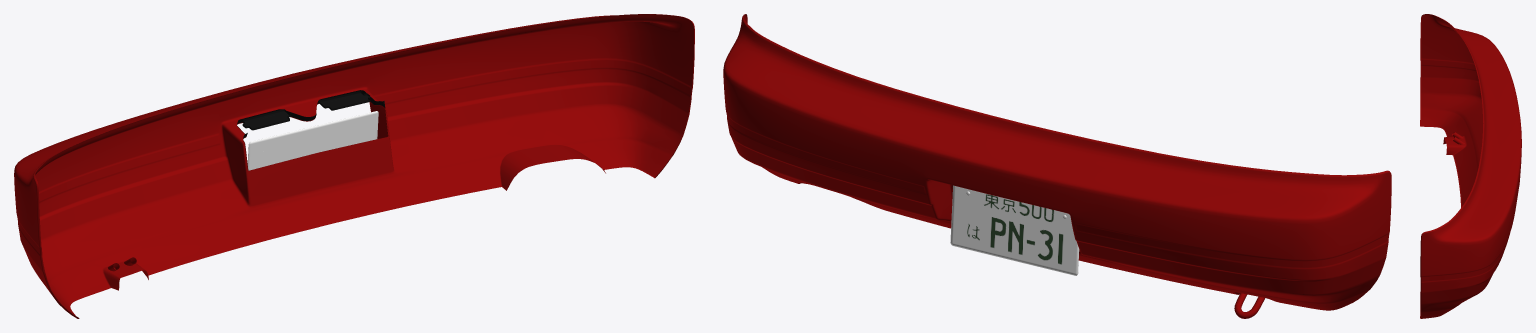
File: rearbumper_oem.glb
3 renders of one model, left to right at view 1: azimuth 30°, elevation 25°; view 2: azimuth 150°, elevation 25°; view 3: azimuth 270°, elevation 25°, orthographic. The views are drawn at different scales.
Visible parts, largest first — view 1: Bumper, Plate, Plate Support; view 2: Bumper, Plate; view 3: Bumper, Hooks.
Part boxes in pixels (<box>): Bumper: <box>14,14,694,318</box>; Plate: <box>247,111,378,170</box>; Plate Support: <box>237,90,385,138</box>; Bumper: <box>723,14,1391,310</box>; Plate: <box>950,185,1079,275</box>; Bumper: <box>1420,14,1521,318</box>; Hooks: <box>1452,131,1464,144</box>.
Size of the model in its own units: 1.61 by 0.3518 by 0.3157.
Materials: 4 (1 with a texture image).
